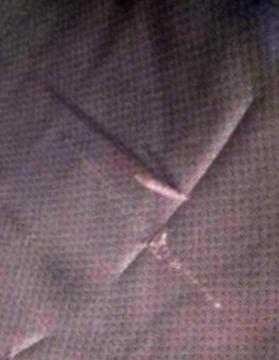snag: (126, 163, 204, 217)
